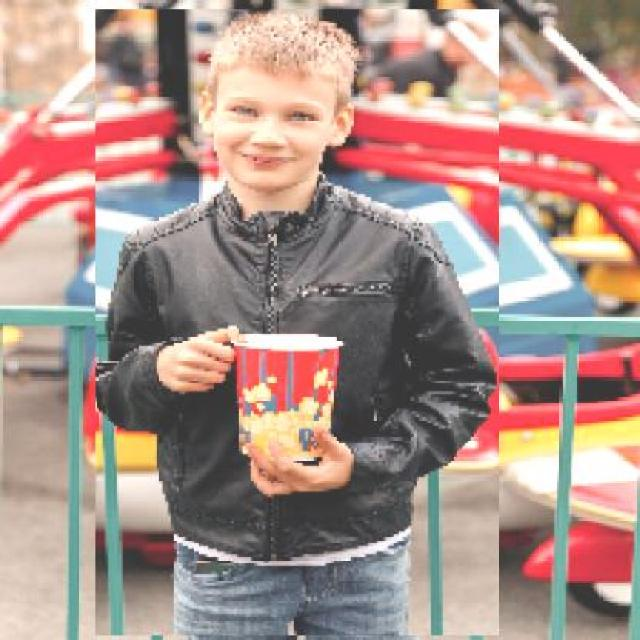child: (94, 9, 500, 637)
